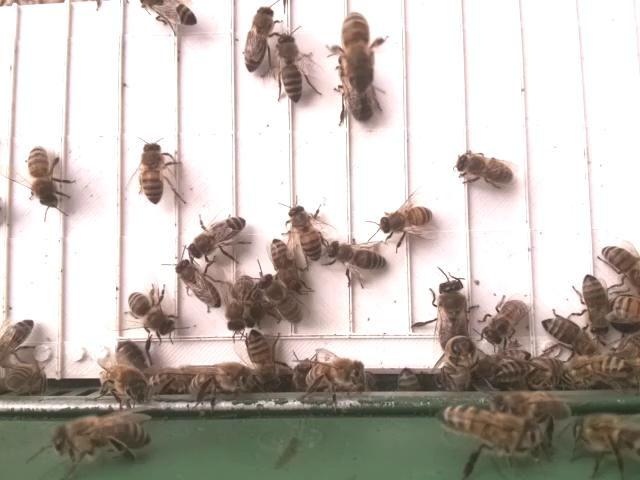Drone: (431, 277, 474, 348)
Worker: (269, 31, 321, 102), (475, 294, 536, 350), (371, 199, 441, 246), (184, 359, 253, 403), (187, 213, 250, 261), (253, 272, 309, 326), (454, 146, 518, 190), (124, 288, 179, 338), (25, 142, 63, 211), (340, 11, 376, 82), (174, 260, 222, 313), (267, 237, 312, 293), (566, 350, 634, 387), (239, 4, 275, 73), (134, 137, 170, 206), (578, 270, 613, 339), (538, 314, 595, 356), (326, 238, 386, 277), (287, 203, 326, 262), (242, 325, 279, 383), (225, 270, 258, 334), (490, 351, 549, 385), (302, 362, 364, 391)
